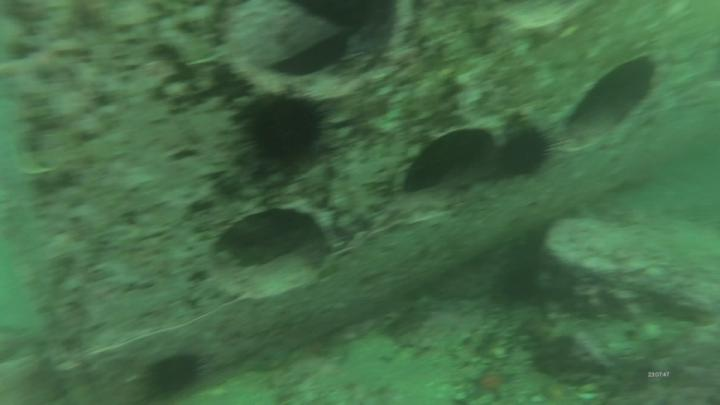echinus: (246, 93, 321, 171), (493, 123, 551, 184), (150, 353, 208, 403)
starfish: (463, 361, 520, 404)
